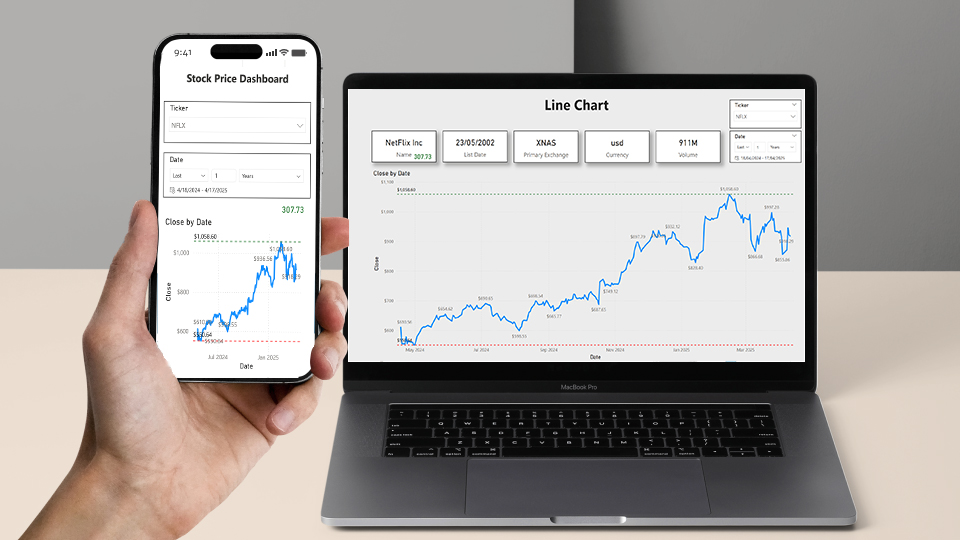

The page's visual inventory and layout, read from the dashboard file:
{"tool":"powerbi","page":{"name":"Line Chart","canvas":[1280,720],"ordinal":1},"visuals":[{"type":"slicer","fields":{"Values":["stock_data_combined.ticker"]},"box":[1067.6,30.3,200.4,73.6],"z":0},{"type":"textbox","box":[357.3,11.8,565.4,64.9],"z":1000},{"type":"lineChart","fields":{"Category":["stock_data_combined.date"],"Y":["Sum(stock_data_combined.close_price)"]},"box":[68.7,209.7,1199.4,497.3],"z":2000},{"type":"slicer","fields":{"Values":["stock_data_combined.date"]},"box":[1067.6,110.7,200.4,81.6],"z":3000},{"type":"card","fields":{"Values":["Min(ticker_details.list_date)"]},"box":[267.2,110.7,180,81],"z":4000},{"type":"card","fields":{"Values":["Sum(stock_data_combined.volume)"]},"box":[861.6,110.7,180,81.6],"z":5000},{"type":"card","fields":{"Values":["Min(ticker_details.primary_exchange)"]},"box":[465.2,110.7,180,81.6],"z":6000},{"type":"card","fields":{"Values":["Min(ticker_details.currency_name)"]},"box":[663.7,110.7,180,81.6],"z":7000},{"type":"card","fields":{"Values":["Min(ticker_details.name)"]},"box":[68.7,110.7,180,81],"z":8000},{"type":"PBI_CV_7B952816_A48F_49B4_9E13_15E3BB2C0337","fields":{"Values":["_Measures.price_change"]},"box":[175.7,159.6,71.8,30.3],"z":9000}]}

Visuals, with their boxes in screenshot pixels (x1, y1, x2, y2), scaled from the page's 1280x720 canvas onto the 960x540 screenshot:
slicer - stock_data_combined.ticker: <bbox>801, 23, 951, 78</bbox>
textbox: <bbox>268, 9, 692, 58</bbox>
lineChart - stock_data_combined.date x Sum(stock_data_combined.close_price): <bbox>52, 157, 951, 530</bbox>
slicer - stock_data_combined.date: <bbox>801, 83, 951, 144</bbox>
card - Min(ticker_details.list_date): <bbox>200, 83, 335, 144</bbox>
card - Sum(stock_data_combined.volume): <bbox>646, 83, 781, 144</bbox>
card - Min(ticker_details.primary_exchange): <bbox>349, 83, 484, 144</bbox>
card - Min(ticker_details.currency_name): <bbox>498, 83, 633, 144</bbox>
card - Min(ticker_details.name): <bbox>52, 83, 187, 144</bbox>
PBI_CV_7B952816_A48F_49B4_9E13_15E3BB2C0337 - _Measures.price_change: <bbox>132, 120, 186, 142</bbox>
